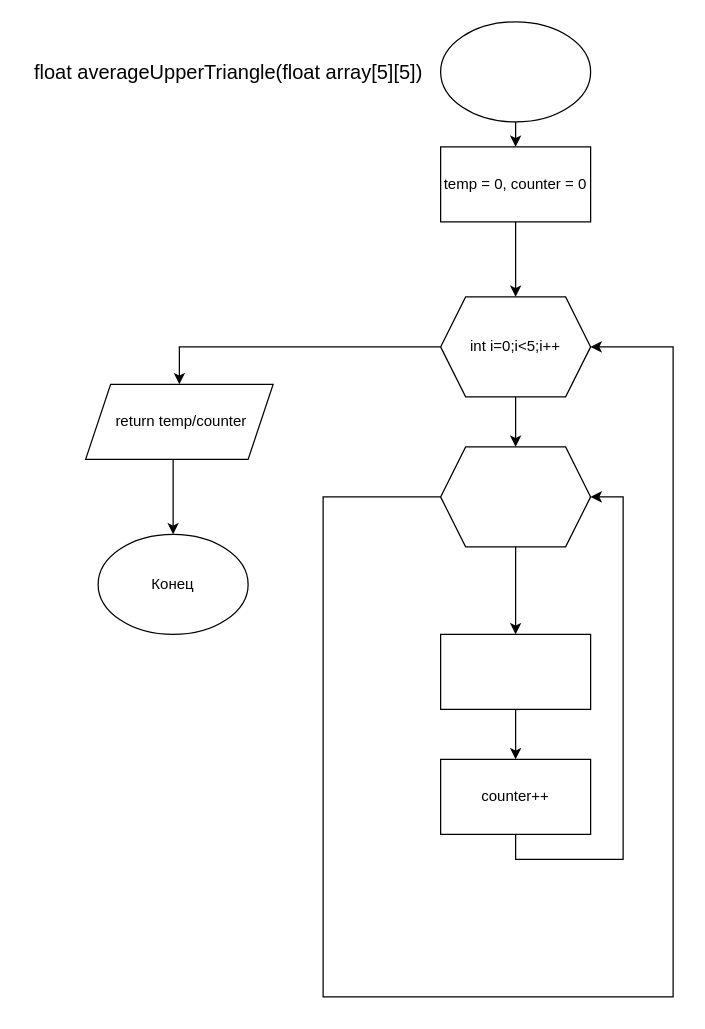
The diagram is 705 pixels wide and 1029 high, and some of its shapes have lost their labels. The shapes that lost their labels are listed below. From the top down, each one's box as (x1, y1, x2, y2) in pixels, then its label:
(439, 21, 591, 122): Начало
(439, 446, 591, 547): int j=i-1;j>=0;j--
(439, 633, 591, 709): temp+=array[j][i]
